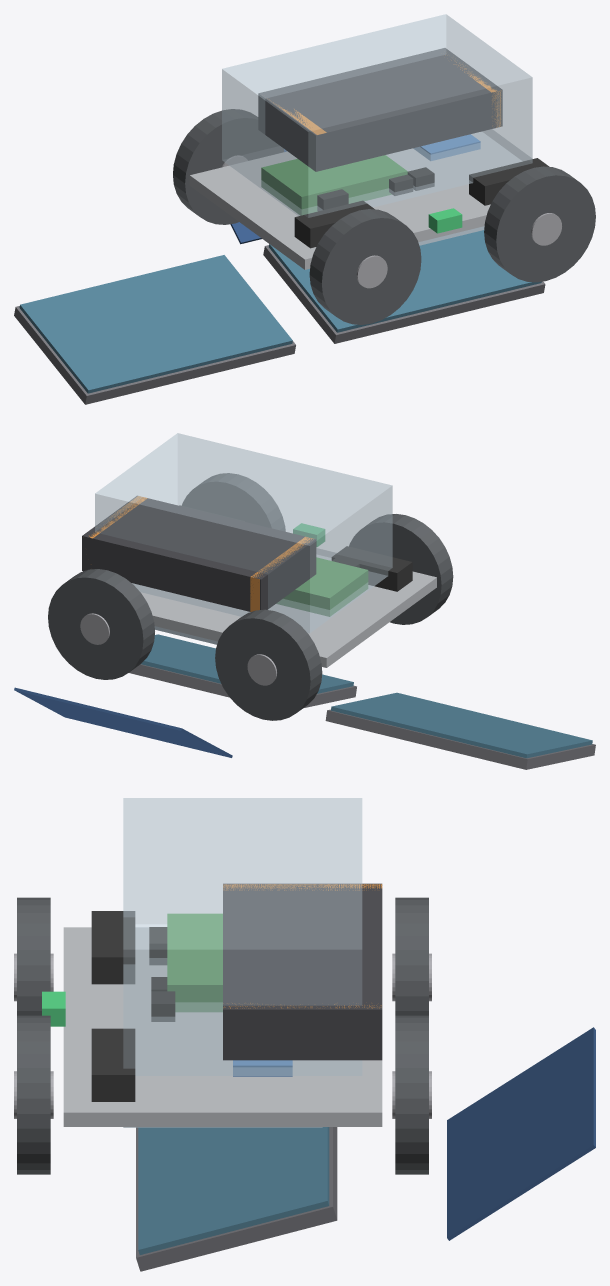
File: pv_clean_rain_v21.glb
3 views of the same model, one above another, from view 1: azimuth 30°, elevation 25°; view 2: azimuth 150°, elevation 25°; view 3: azimuth 270°, elevation 25° (orthographic). The views are drawn at different scales.
Parts seen in each view (by area): view 1: ZipBagShroud, PV_Module_1, GOODaaa_D4004, Chassis, Wheel_2, Wheel_1, PV_Module_2, Wheel_3, RaspberryPi_2011_12, PV_Module_1_Frame, PV_Module_2_Frame, Motor_L (+6 smaller); view 2: ZipBagShroud, GOODaaa_D4004, Chassis, Wheel_3, Wheel_4, PV_Module_1, Wheel_1, Wheel_2, PV_Module_1_Frame, SolarFlap, RaspberryPi_2011_12, PV_Module_2 (+5 smaller); view 3: ZipBagShroud, Chassis, GOODaaa_D4004, PV_Module_2, SolarFlap, Wheel_2, Wheel_4, RaspberryPi_2011_12, PV_Module_2_Frame, Wheel_3, Wheel_1, Motor_R (+5 smaller).
Boxes of the visible parts, box(x1,y1,x2,y2) form: ZipBagShroud: box(222, 14, 532, 217); PV_Module_1: box(19, 255, 292, 393); GOODaaa_D4004: box(258, 48, 502, 171); Chassis: box(189, 129, 532, 269); Wheel_2: box(484, 166, 595, 282); Wheel_1: box(309, 209, 421, 324); PV_Module_2: box(269, 230, 541, 332); Wheel_3: box(173, 109, 283, 224); RaspberryPi_2011_12: box(261, 155, 407, 215); PV_Module_1_Frame: box(14, 306, 295, 404); PV_Module_2_Frame: box(263, 245, 545, 343); Motor_L: box(294, 200, 374, 248); ZipBagShroud: box(95, 433, 392, 633); GOODaaa_D4004: box(82, 496, 316, 611); Chassis: box(132, 548, 436, 667); Wheel_3: box(215, 609, 322, 720); Wheel_4: box(48, 569, 154, 679); PV_Module_1: box(331, 692, 592, 758); Wheel_1: box(349, 514, 453, 624); Wheel_2: box(182, 473, 285, 531); PV_Module_1_Frame: box(325, 709, 595, 769); SolarFlap: box(14, 687, 232, 757); RaspberryPi_2011_12: box(276, 557, 368, 616); PV_Module_2: box(141, 634, 353, 693); ZipBagShroud: box(123, 798, 362, 1075); Chassis: box(63, 927, 382, 1126); GOODaaa_D4004: box(223, 883, 382, 1060); PV_Module_2: box(138, 1127, 329, 1254); SolarFlap: box(447, 1027, 595, 1240); Wheel_2: box(17, 1015, 50, 1174); Wheel_4: box(395, 1015, 428, 1174); RaspberryPi_2011_12: box(167, 913, 222, 1011); PV_Module_2_Frame: box(136, 1127, 337, 1271); Wheel_3: box(395, 897, 428, 1015); Wheel_1: box(17, 897, 50, 1015); Motor_R: box(91, 1028, 135, 1101).
Bounding box in the file's own units: 0.374 × 0.1721 × 0.2924.
